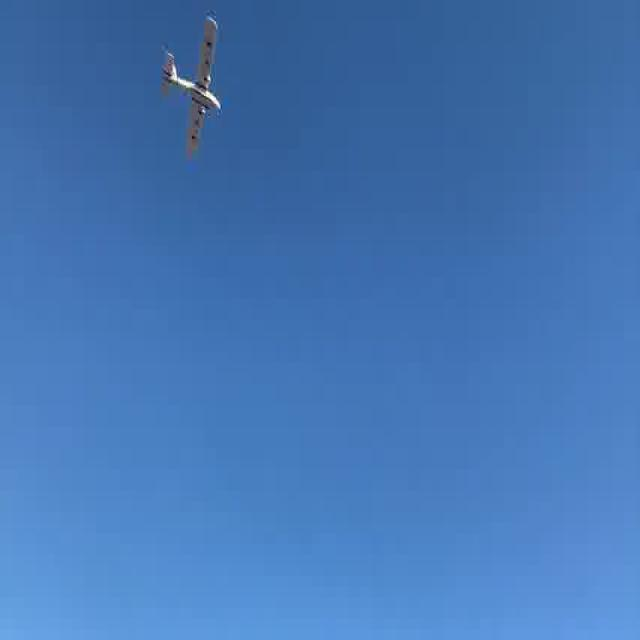iha: (189, 0, 195, 106)
